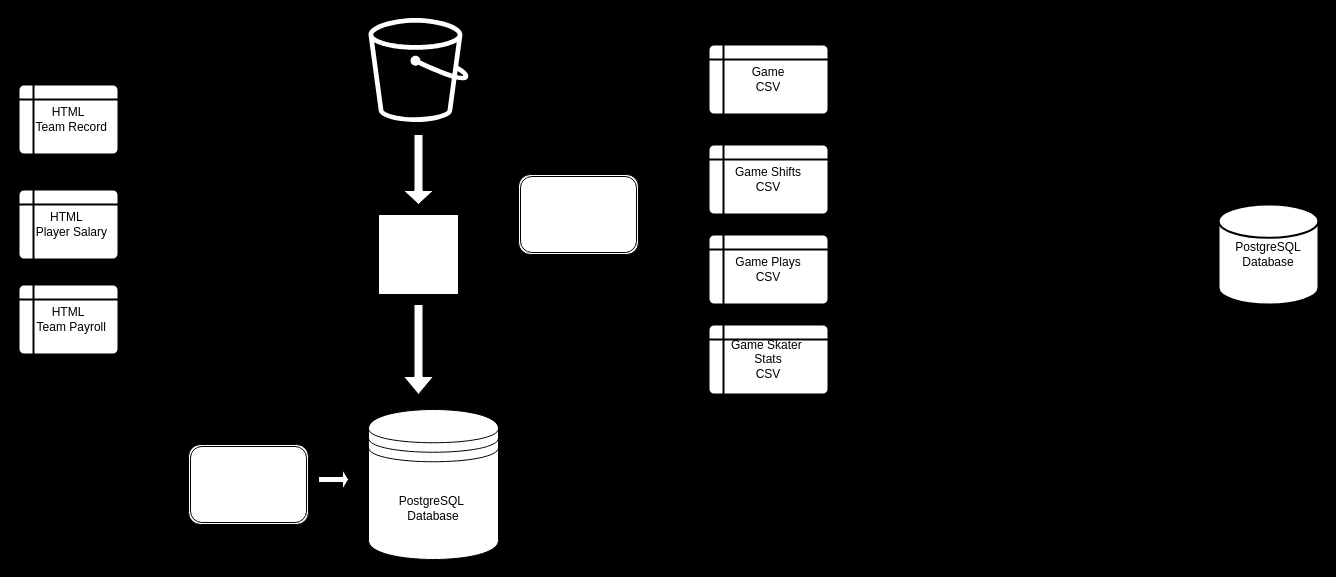
Some shapes in this 1336 by 577 pixel diagram are drawn without their labels. The shapes that lost their labels are listed below. From the top down, each one's centre as x and y in pixels, then its label:
point 578,214: Download to AWS S3 Bucket
point 418,254: Read csv and insert into PSQL data table
point 248,484: Scrape and insert into PSQL DB
